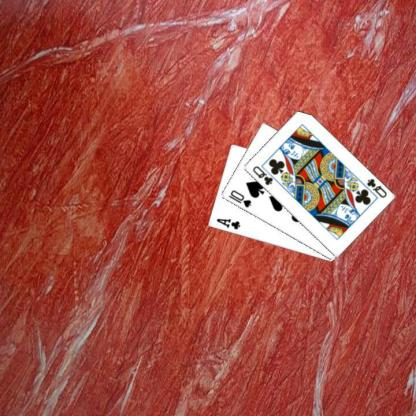10S: (226, 187, 252, 209)
AC: (214, 216, 241, 231)
QC: (249, 163, 274, 187), (364, 176, 388, 199)
